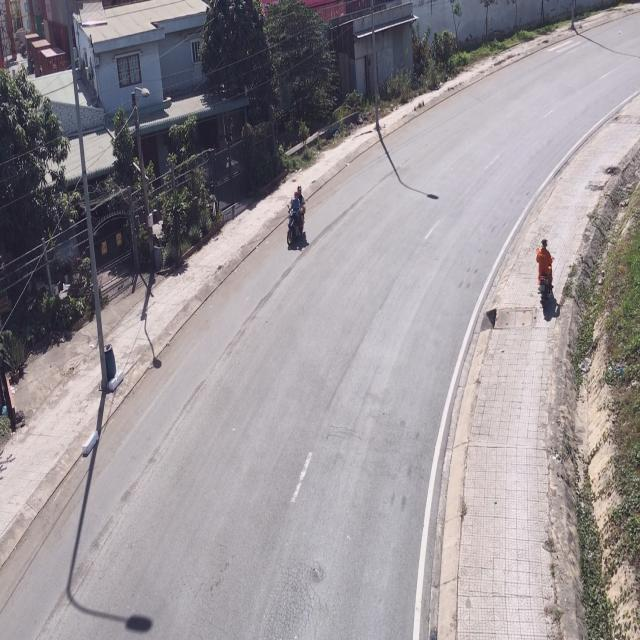motorbike: (284, 185, 306, 252), (536, 240, 554, 301)
